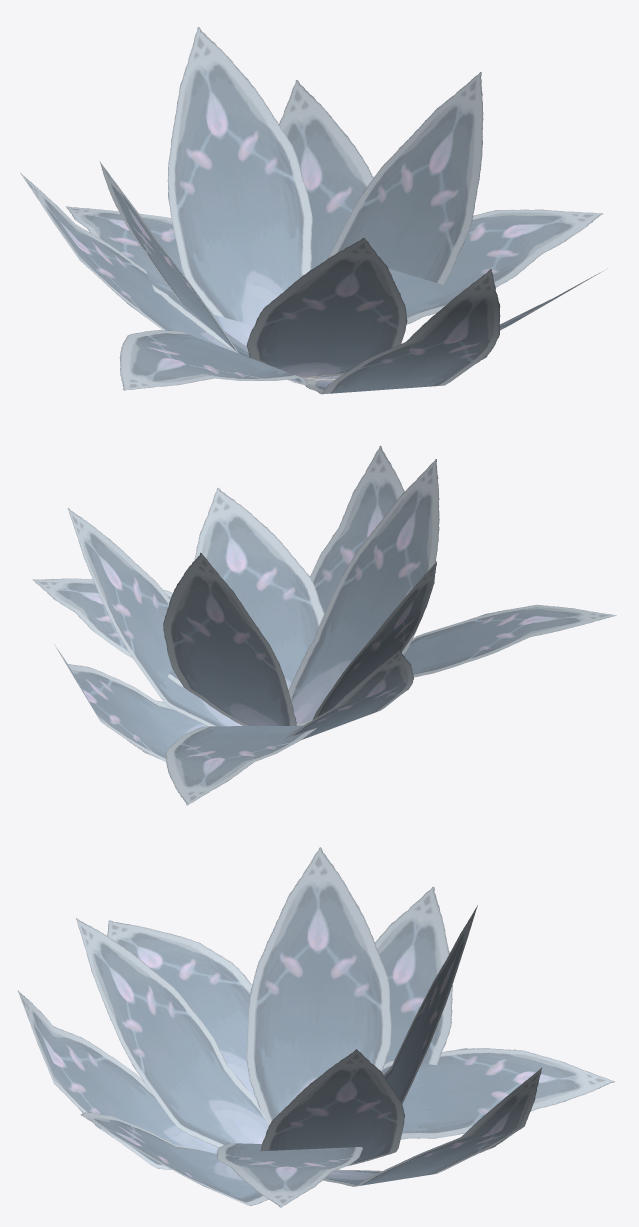
The model's file is ornate flower 1.fbx.
3 views of the same model, one above another, from view 1: azimuth 30°, elevation 25°; view 2: azimuth 150°, elevation 25°; view 3: azimuth 270°, elevation 25° (orthographic). The views are drawn at different scales.
Visible parts, largest first — view 1: ornate_petal1, ornate_petal3, ornate_petal5, ornate_petal6, ornate_petal11, ornate_petal7, ornate_petal9, ornate_petal10, ornate_petal8, ornate_petal2; view 2: ornate_petal5, ornate_petal1, ornate_petal4, ornate_petal3, ornate_petal9, ornate_petal8, ornate_petal7, ornate_petal6, ornate_petal2, ornate_petal10, ornate_petal11; view 3: ornate_petal2, ornate_petal5, ornate_petal8, ornate_petal3, ornate_petal9, ornate_petal6, ornate_petal10, ornate_petal7, ornate_petal11, ornate_petal4, ornate_petal1.
Part boxes in pixels (box(x1,y1,x2,y2)): ornate_petal1: box(167, 27, 312, 325); ornate_petal3: box(328, 72, 483, 284); ornate_petal5: box(246, 237, 407, 378); ornate_petal6: box(305, 269, 500, 394); ornate_petal11: box(388, 209, 602, 324); ornate_petal7: box(279, 80, 373, 269); ornate_petal9: box(119, 330, 308, 390); ornate_petal10: box(20, 172, 236, 352); ornate_petal8: box(66, 206, 254, 352); ornate_petal2: box(99, 161, 249, 357); ornate_petal5: box(288, 459, 439, 725); ornate_petal1: box(163, 552, 296, 725); ornate_petal4: box(194, 487, 324, 689); ornate_petal3: box(67, 508, 242, 726); ornate_petal9: box(404, 604, 616, 677); ornate_petal8: box(165, 725, 316, 805); ornate_petal7: box(54, 644, 206, 761); ornate_petal6: box(310, 445, 404, 613); ornate_petal2: box(312, 561, 436, 719); ornate_petal10: box(286, 650, 413, 739); ornate_petal11: box(33, 578, 192, 693); ornate_petal2: box(246, 847, 391, 1123); ornate_petal5: box(76, 918, 269, 1147); ornate_petal8: box(382, 1048, 614, 1139); ornate_petal3: box(260, 1049, 404, 1165); ornate_petal9: box(107, 920, 256, 1099); ornate_petal6: box(17, 990, 217, 1169); ornate_petal10: box(375, 887, 452, 1065); ornate_petal7: box(323, 1067, 541, 1186); ornate_petal11: box(216, 1143, 362, 1207); ornate_petal4: box(80, 1112, 268, 1206); ornate_petal1: box(383, 905, 477, 1103).
Size of the model in its own units: 8.14 by 3.99 by 7.81.
